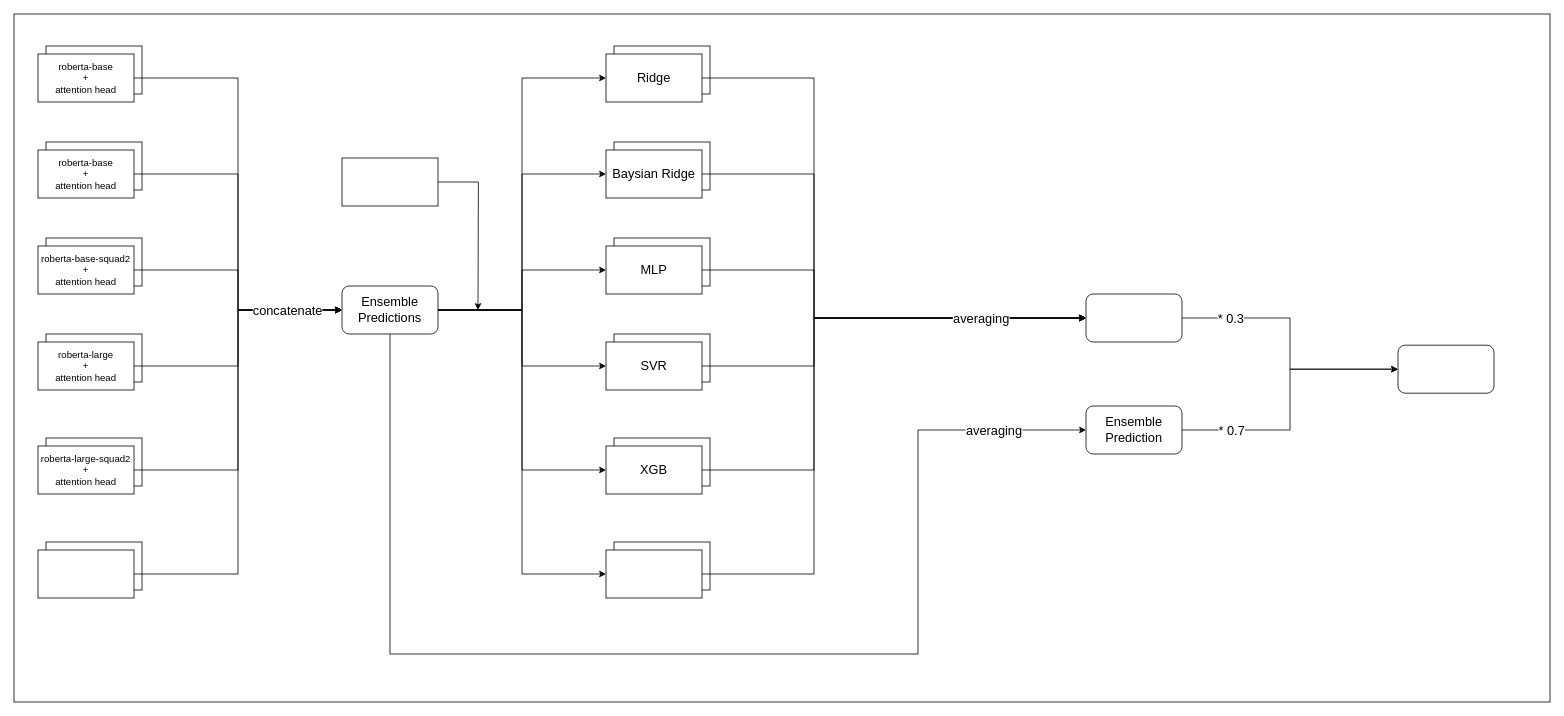
This 1564x716 diagram has some shape labels left out. Each missing label, with the box of its shape:
Final Submission: (1397, 344, 1494, 393)
RamdomForest: (605, 549, 702, 598)
roberta-large + mean pool head: (37, 549, 134, 598)
Some Text Feature: (341, 157, 438, 206)
Stacking Prediction: (1085, 293, 1182, 342)
